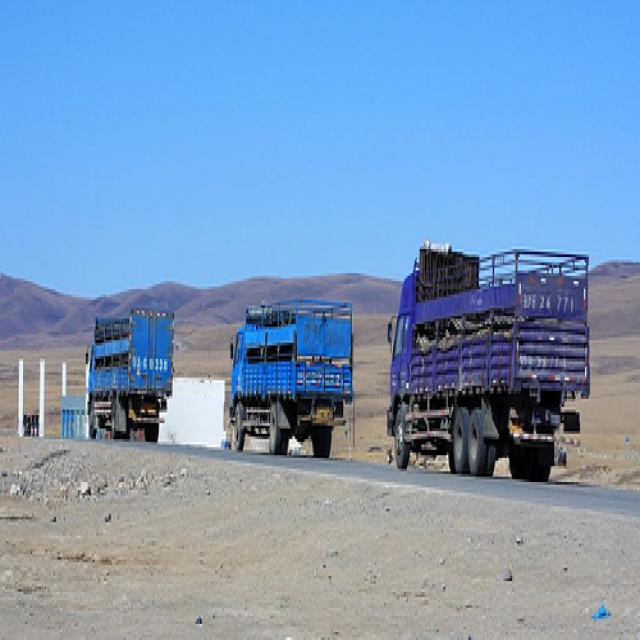Vehicle: (388, 240, 590, 486), (228, 303, 354, 461), (86, 304, 174, 442)
